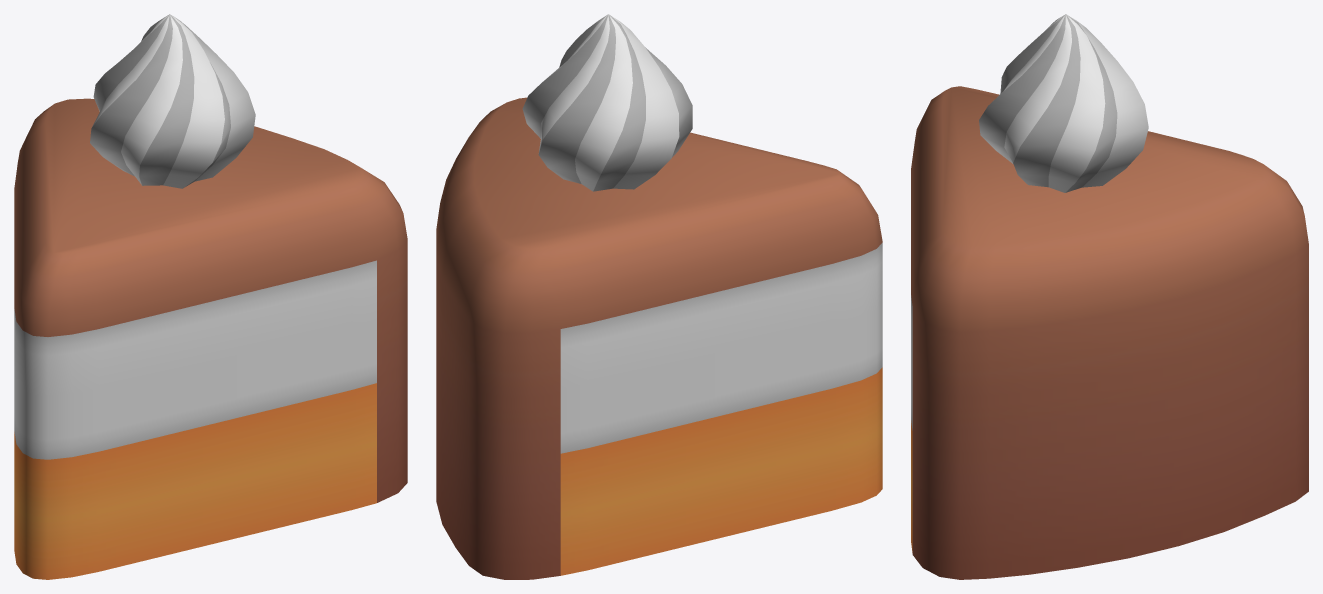
Rendered from cake05_slice.FBX.
3 views of the same model, side by side, from view 1: azimuth 30°, elevation 25°; view 2: azimuth 150°, elevation 25°; view 3: azimuth 270°, elevation 25° (orthographic).
Visible parts, largest first — view 1: cake05_slice; view 2: cake05_slice; view 3: cake05_slice.
Part boxes in pixels (x1=…): cake05_slice: x1=14, y1=14, x2=407, y2=579; cake05_slice: x1=436, y1=14, x2=882, y2=579; cake05_slice: x1=911, y1=14, x2=1308, y2=579.
Size of the model in its own units: 0.00904 by 0.0104 by 0.00788.
